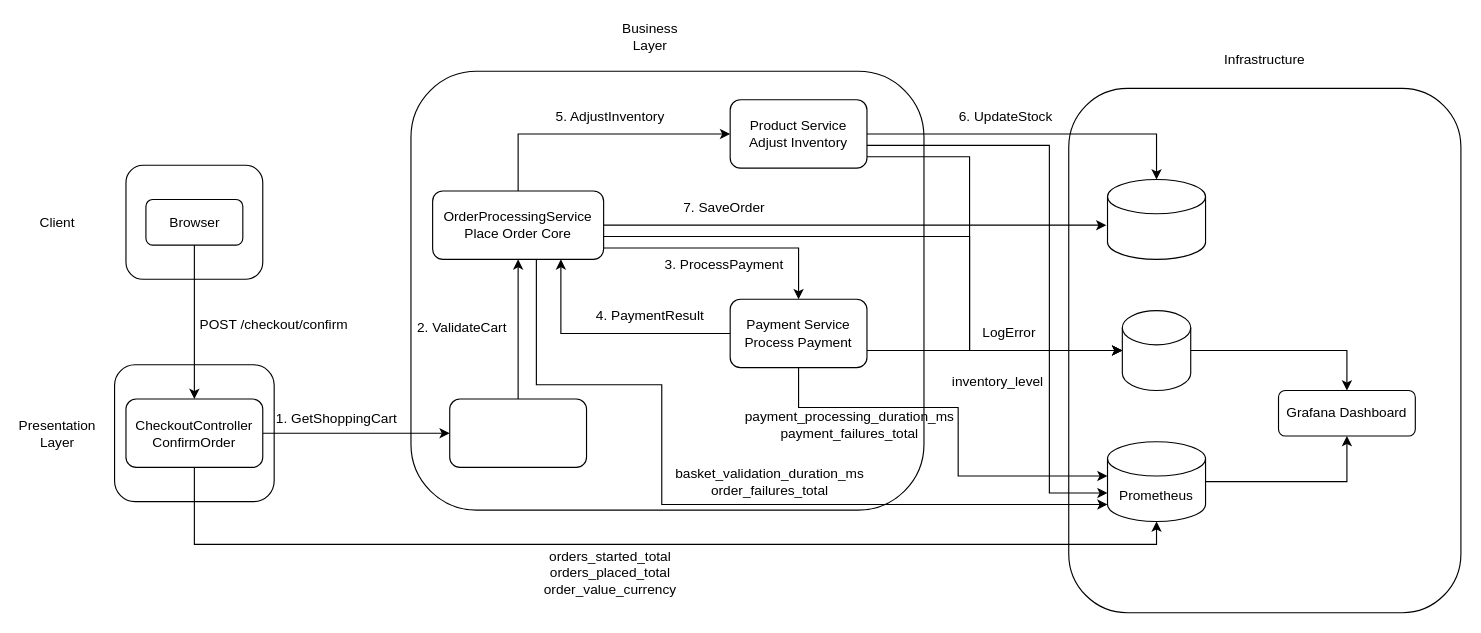
The diagram is 1481 pixels wide and 633 high, and some of its shapes have lost their labels. The centre of each missing label's shape, as x and y in pixels:
"Loki" goes at pixel 1156 350.
"ShoppingCartService Get & Validate Cart" goes at pixel 518 432.
"SQL Server" goes at pixel 1156 218.
